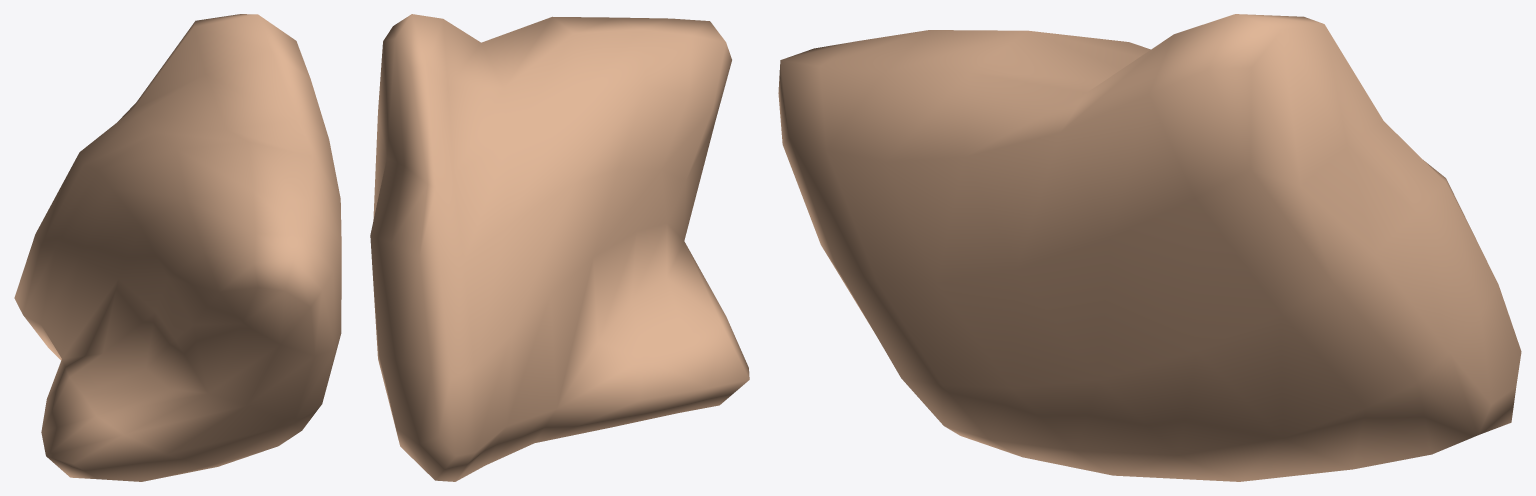
Rendered from pillowsofa.glb.
3 views of the same model, side by side, from view 1: azimuth 30°, elevation 25°; view 2: azimuth 150°, elevation 25°; view 3: azimuth 270°, elevation 25° (orthographic). The views are drawn at different scales.
Parts seen in each view (by area): view 1: Cube.342; view 2: Cube.342; view 3: Cube.342.
Part boxes in pixels (box(x1,y1,x2,y2)): Cube.342: box(14, 14, 341, 481); Cube.342: box(370, 14, 749, 481); Cube.342: box(778, 14, 1521, 481).
Bounding box in the file's own units: 0.9205 × 1.12 × 1.42.
